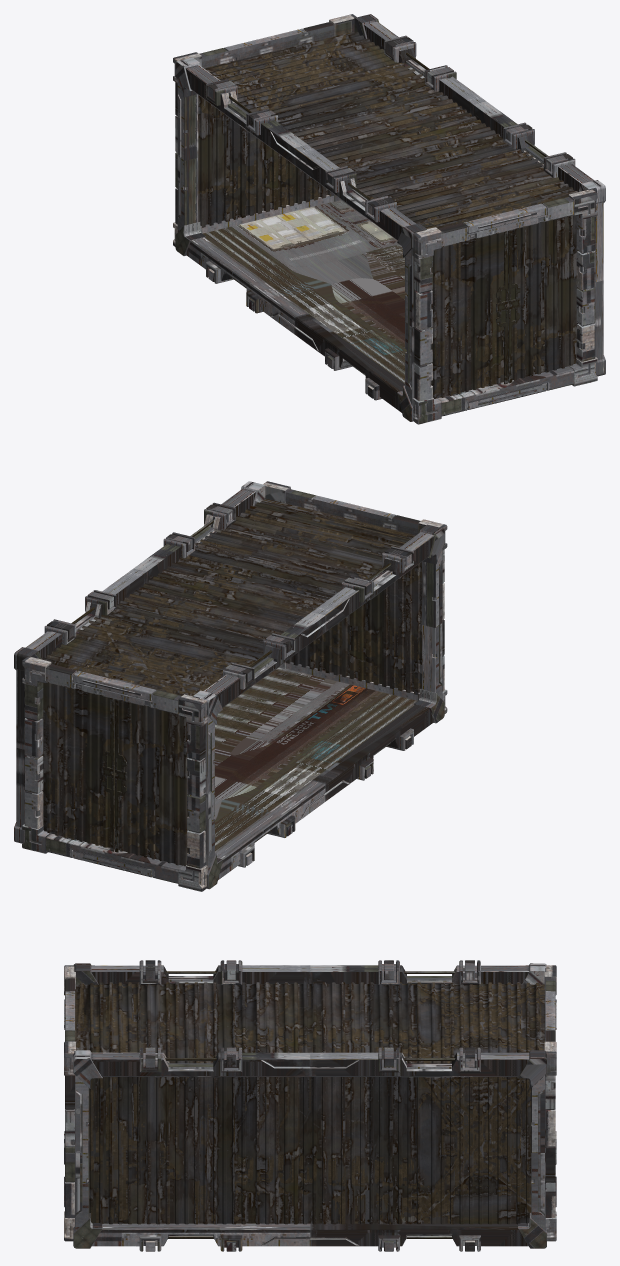
The model's file is SM_Open_Shipping_Container.fbx.
The picture shows the model from 3 angles, top to bottom: view 1: azimuth 30°, elevation 25°; view 2: azimuth 150°, elevation 25°; view 3: azimuth 270°, elevation 25°; orthographic projection.
Parts seen in each view (by area): view 1: SM_Open_Shipping_Container_LOD0; view 2: SM_Open_Shipping_Container_LOD0; view 3: SM_Open_Shipping_Container_LOD0.
Part boxes in pixels (box(x1,y1,x2,y2)): SM_Open_Shipping_Container_LOD0: box(173, 14, 605, 424); SM_Open_Shipping_Container_LOD0: box(14, 481, 447, 891); SM_Open_Shipping_Container_LOD0: box(64, 960, 556, 1251).
Bounding box in the file's own units: 533 × 827 × 298.
Materials: 4 (4 with a texture image).
